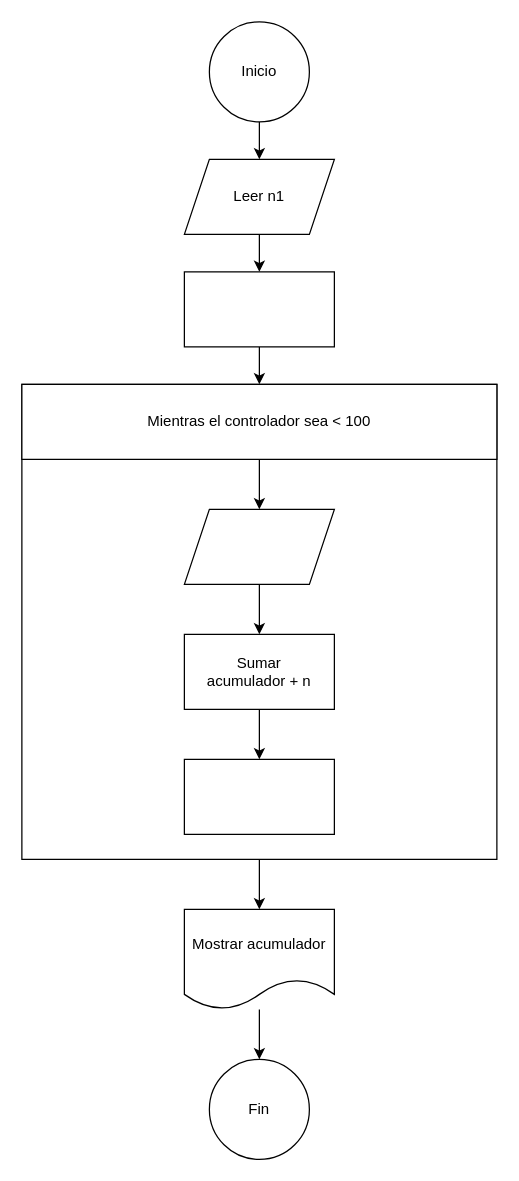
This 519x1181 diagram has some shape labels left out. Here are the shapes that lost their labels. From the top down, the centre of each, then its label:
point 258,309: Guardarlo n1 en Acumulador Incrementar controlador en 1
point 258,546: Leer n
point 258,796: Incrementar controlador en 1
